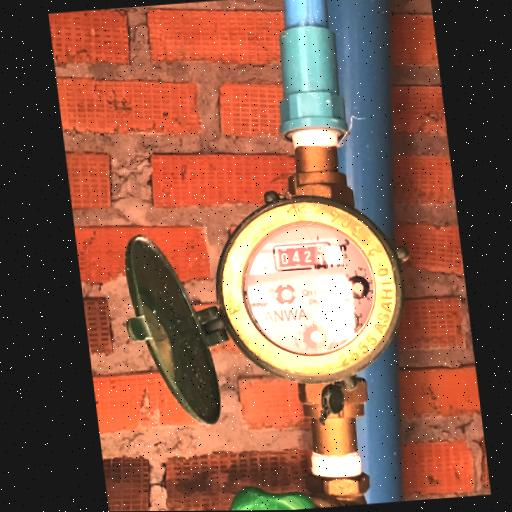0: (277, 248, 290, 268)
1: (311, 245, 329, 269)
2: (300, 247, 313, 266)
4: (289, 247, 303, 266)
border_water_meter_number: (271, 241, 333, 273)
